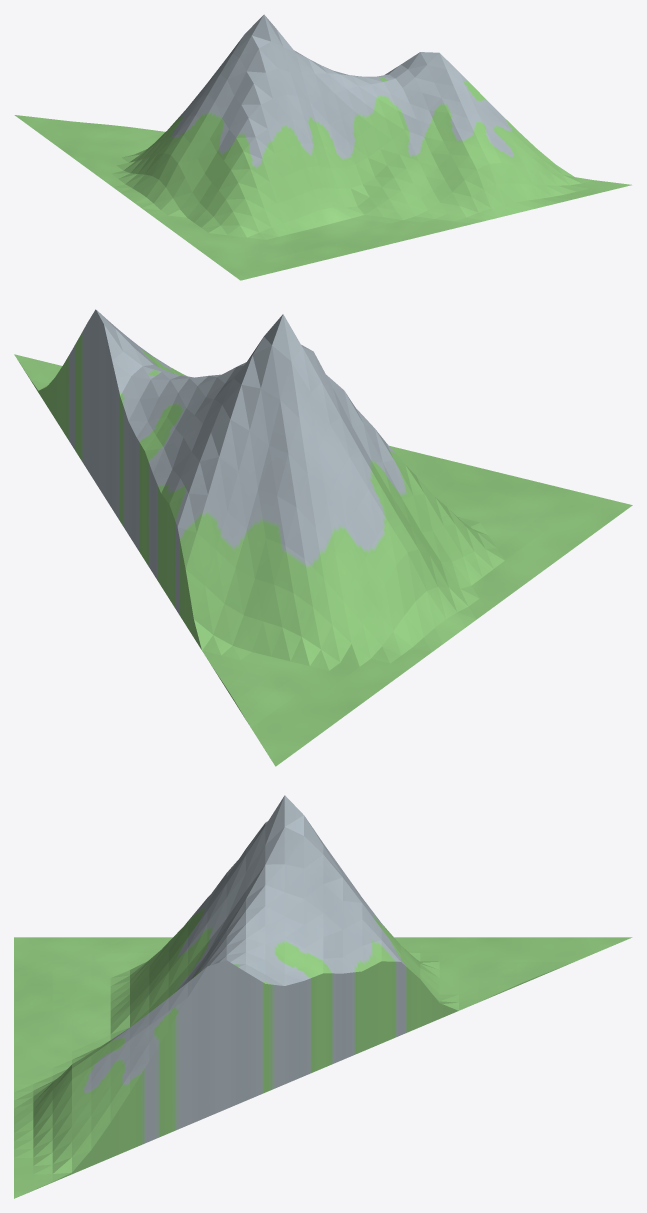
Rendered from Grass_RockyMountains_05_NW.obj.
The picture shows the model from 3 angles, top to bottom: view 1: azimuth 30°, elevation 25°; view 2: azimuth 150°, elevation 25°; view 3: azimuth 270°, elevation 25°; orthographic projection. The views are drawn at different scales.
Bounding box in the file's own units: 10 × 3.99 × 10.
1 material, 1 textured.
